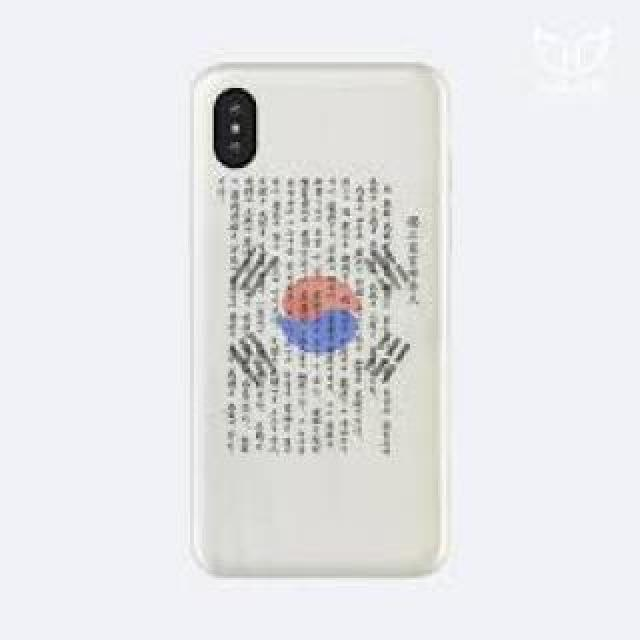smart phone: (170, 32, 490, 600)
